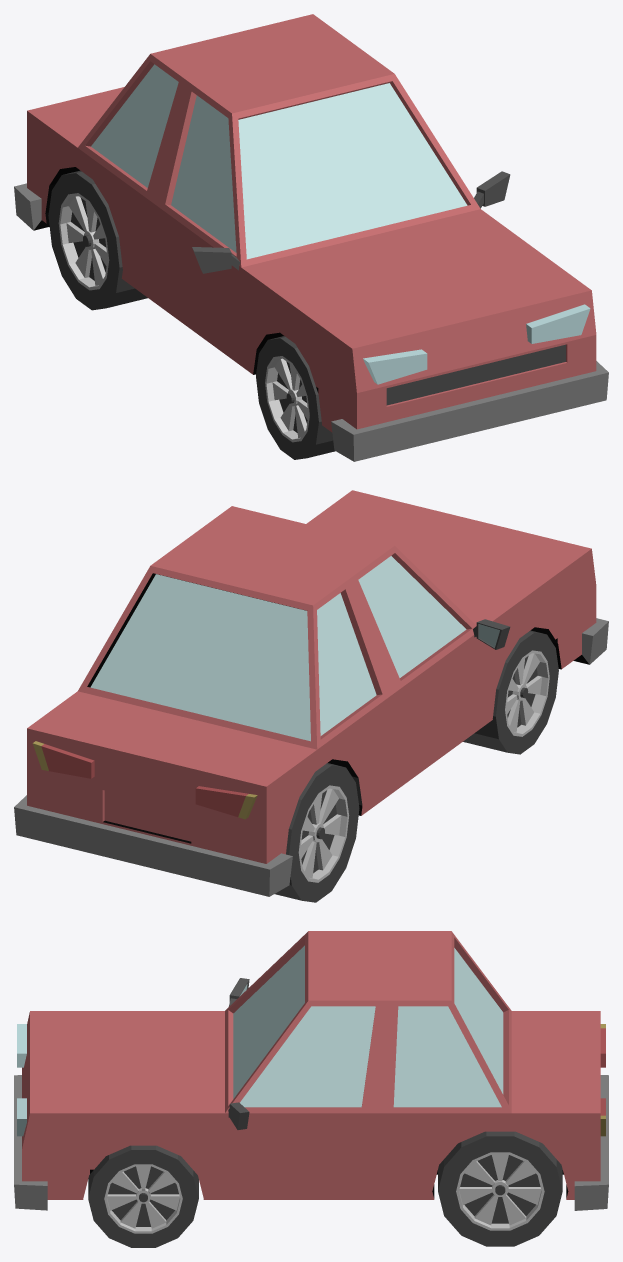
Rendered from car4.fbx.
3 views of the same model, one above another, from view 1: azimuth 30°, elevation 25°; view 2: azimuth 150°, elevation 25°; view 3: azimuth 270°, elevation 25° (orthographic). The views are drawn at different scales.
Visible parts, largest first — view 1: Cube.003, Cube.008, Cube.004, Cube.005, Cube.001, Cube.011, Cube.002; view 2: Cube.003, Cube.008, Cube.004, Cube.009, Cube.010, Cube.011; view 3: Cube.003, Cube.007, Cube.006, Cube.002.
Boxes of the visible parts, x1=… form: Cube.003: x1=14, y1=14, x2=608, y2=461; Cube.008: x1=48, y1=170, x2=147, y2=310; Cube.004: x1=256, y1=336, x2=335, y2=459; Cube.005: x1=526, y1=304, x2=590, y2=343; Cube.001: x1=363, y1=349, x2=427, y2=384; Cube.011: x1=192, y1=247, x2=240, y2=273; Cube.002: x1=474, y1=171, x2=510, y2=208; Cube.003: x1=14, y1=490, x2=608, y2=896; Cube.008: x1=275, y1=763, x2=359, y2=902; Cube.004: x1=463, y1=630, x2=558, y2=754; Cube.009: x1=32, y1=741, x2=94, y2=778; Cube.010: x1=195, y1=786, x2=257, y2=819; Cube.011: x1=473, y1=619, x2=510, y2=649; Cube.003: x1=14, y1=931, x2=608, y2=1210; Cube.007: x1=438, y1=1131, x2=562, y2=1246; Cube.006: x1=88, y1=1145, x2=198, y2=1247; Cube.002: x1=228, y1=1102, x2=249, y2=1129.
Bounding box in the file's own units: 1008 × 802 × 1873.
